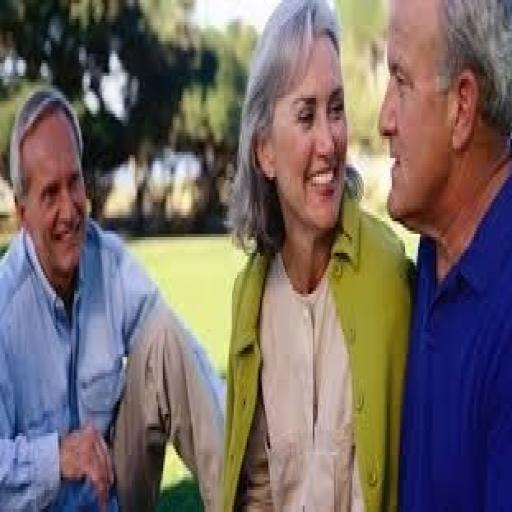sitting: (0, 0, 510, 509), (219, 0, 415, 509), (0, 82, 227, 509), (377, 0, 510, 509)
